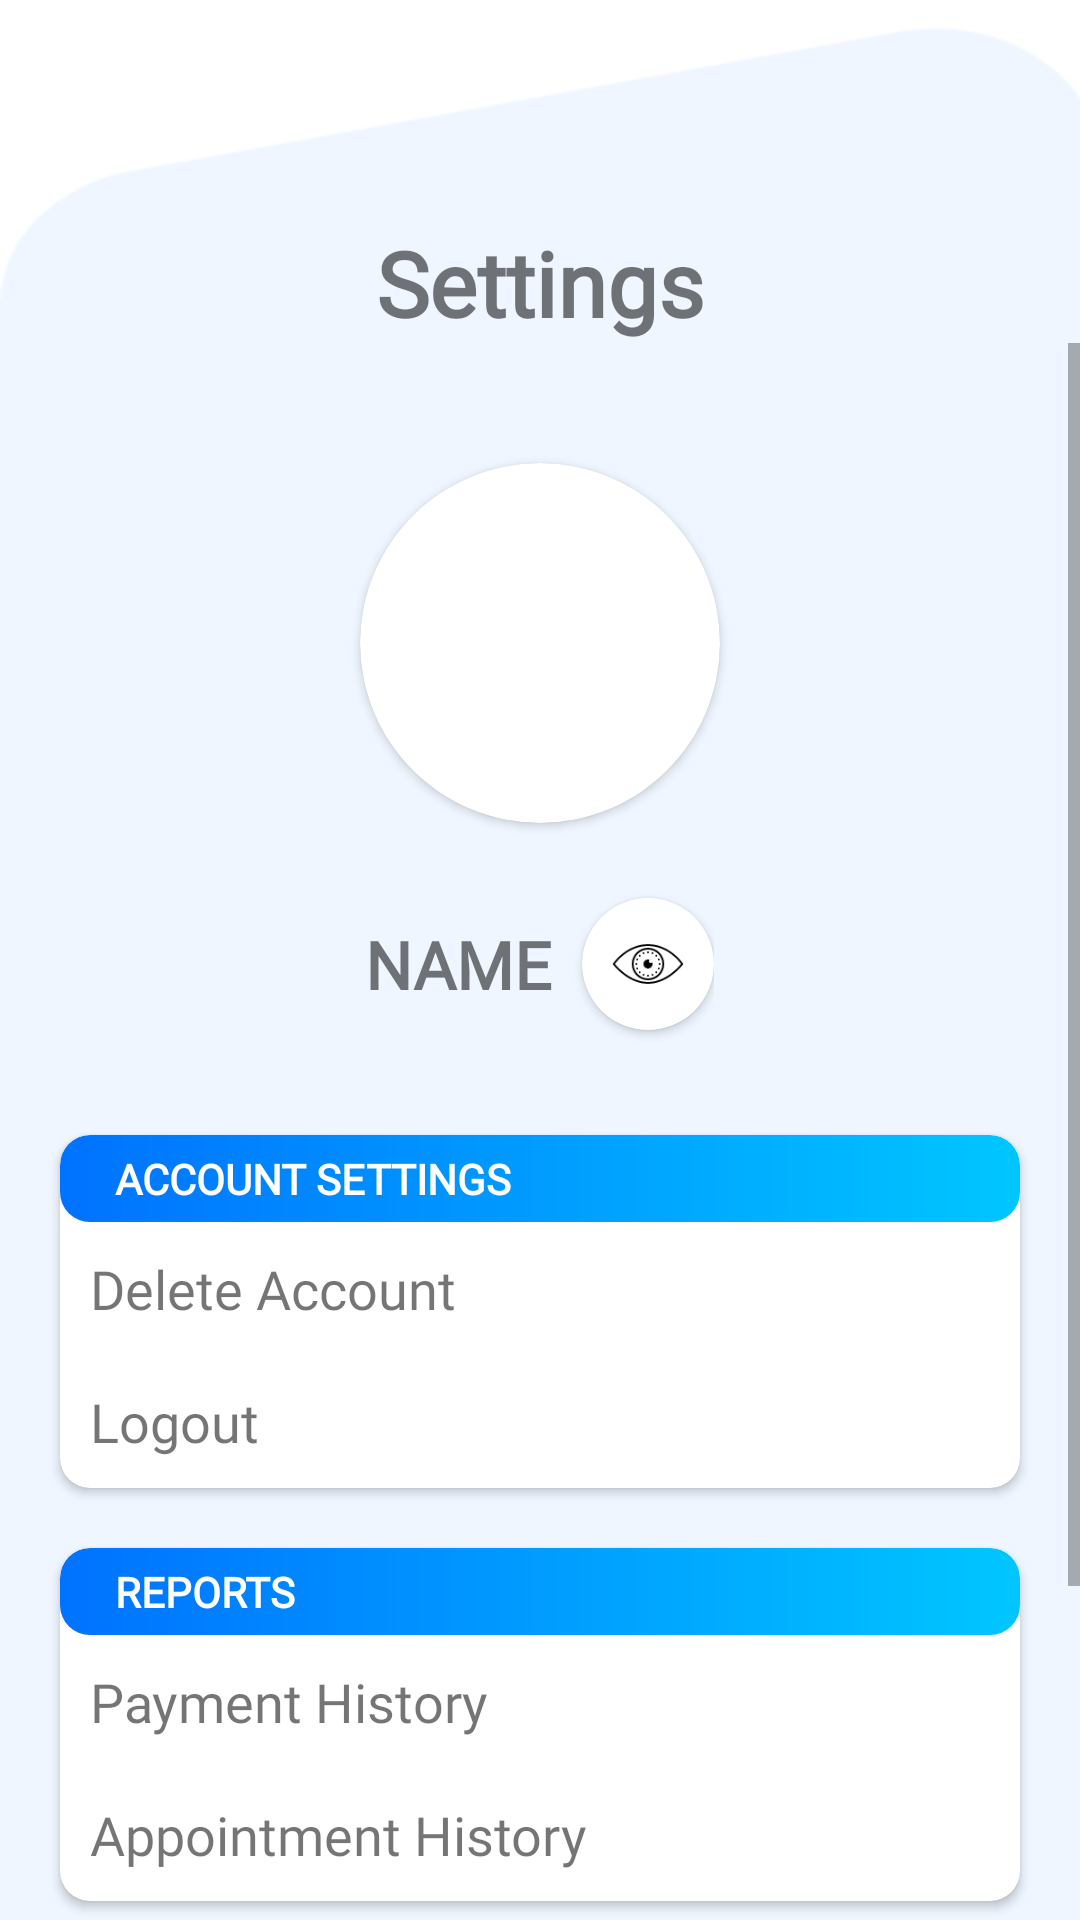

Where icons sit on this 1080 x 1920 app screen, as BBox(x1, y1, x2, y2):
view: BBox(612, 944, 684, 984)
